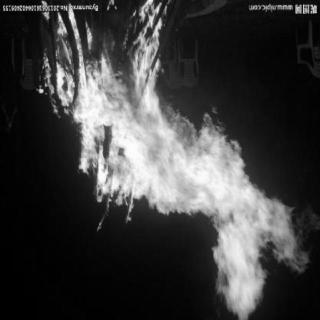Fire: (39, 7, 303, 313)
